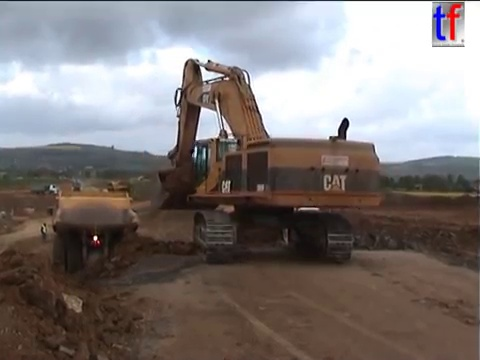excavator: (151, 55, 384, 266)
truck: (46, 189, 141, 275), (104, 179, 133, 193), (29, 183, 60, 196)
worker: (38, 219, 48, 243)
